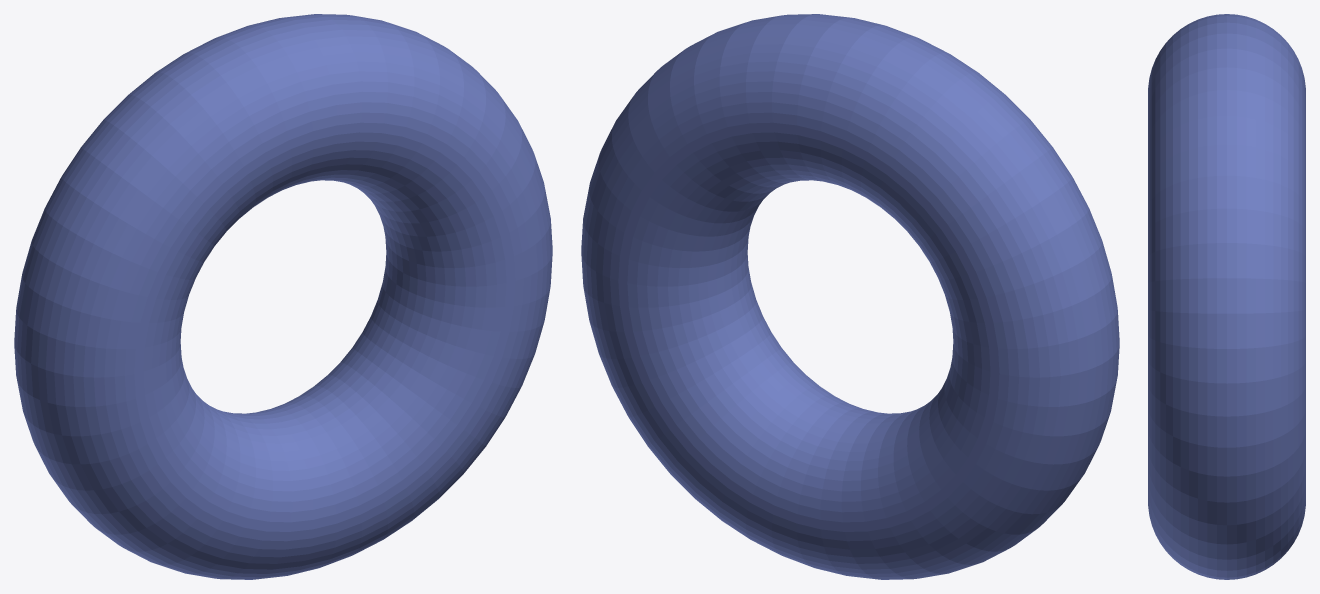
3 views of the same model, side by side, from view 1: azimuth 30°, elevation 25°; view 2: azimuth 150°, elevation 25°; view 3: azimuth 270°, elevation 25° (orthographic). The views are drawn at different scales.
Parts seen in each view (by area): view 1: world; view 2: world; view 3: world.
Part boxes in pixels (x1=…): world: x1=14, y1=14, x2=552, y2=579; world: x1=581, y1=14, x2=1119, y2=579; world: x1=1148, y1=14, x2=1305, y2=579.
Size of the model in its own units: 14.8 by 14.77 by 4.13.
